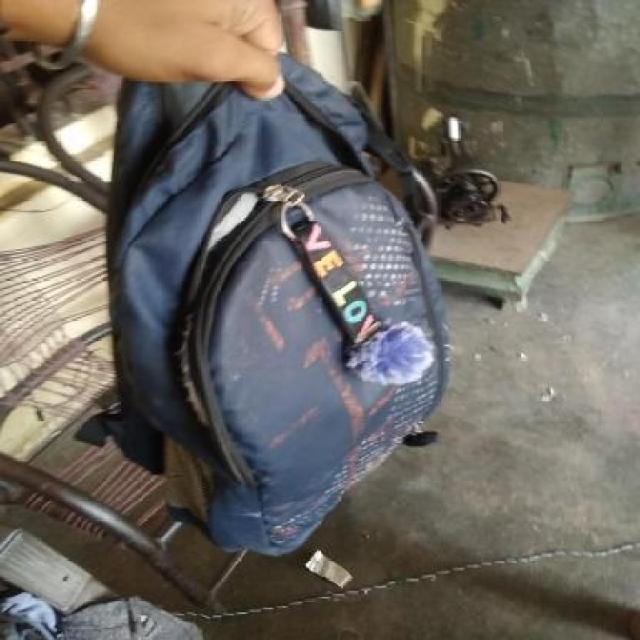backpack: (100, 46, 458, 563)
